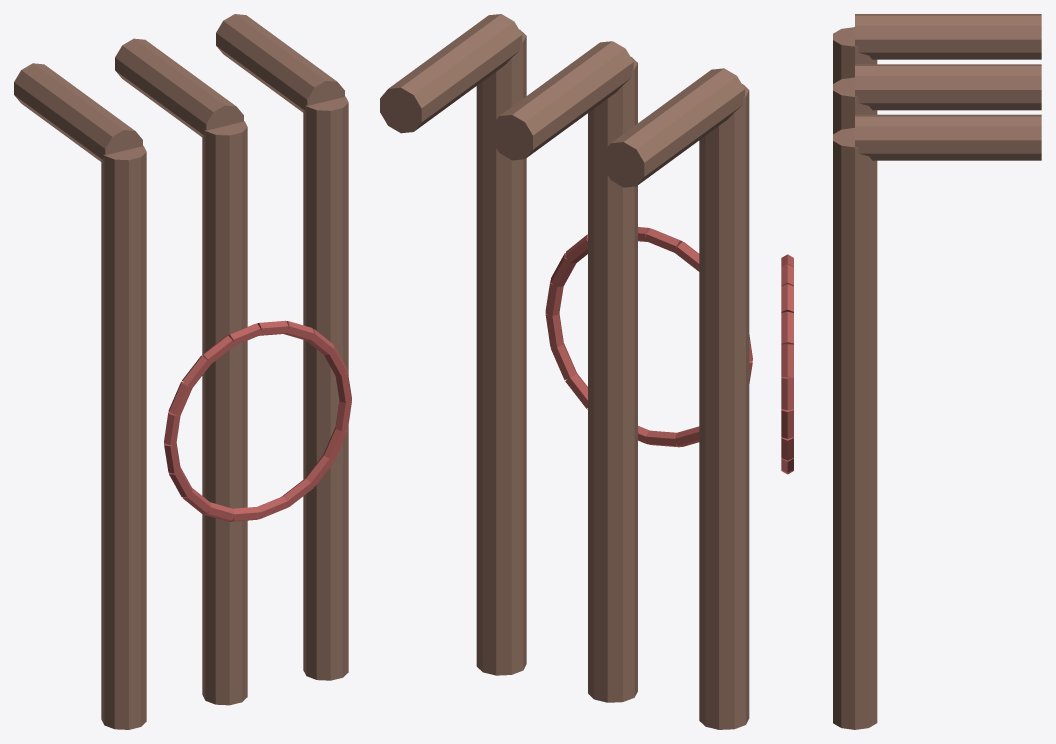
The model's file is BSM-003.glb.
3 renders of one model, left to right at view 1: azimuth 30°, elevation 25°; view 2: azimuth 150°, elevation 25°; view 3: azimuth 270°, elevation 25°, orthographic. The views are drawn at different scales.
Parts seen in each view (by area): view 1: 000_Pipe_section_0, 002_Pipe_section_1, 004_Pipe_section_2, 005_Elbow_2, 001_Elbow_0, 003_Elbow_1; view 2: 000_Pipe_section_0, 004_Pipe_section_2, 002_Pipe_section_1, 003_Elbow_1, 005_Elbow_2, 001_Elbow_0; view 3: 004_Pipe_section_2, 005_Elbow_2, 003_Elbow_1, 001_Elbow_0, 000_Pipe_section_0, 002_Pipe_section_1.
Boxes of the visible parts, left/top/right/bottom form: 000_Pipe_section_0: left=101, top=145, right=146, bottom=729; 002_Pipe_section_1: left=202, top=121, right=247, bottom=705; 004_Pipe_section_2: left=303, top=96, right=348, bottom=680; 005_Elbow_2: left=216, top=14, right=344, bottom=112; 001_Elbow_0: left=14, top=63, right=142, bottom=161; 003_Elbow_1: left=115, top=38, right=243, bottom=136; 000_Pipe_section_0: left=699, top=84, right=749, bottom=729; 004_Pipe_section_2: left=476, top=29, right=526, bottom=675; 002_Pipe_section_1: left=588, top=57, right=637, bottom=702; 003_Elbow_1: left=491, top=41, right=633, bottom=160; 005_Elbow_2: left=380, top=14, right=522, bottom=133; 001_Elbow_0: left=603, top=68, right=744, bottom=187; 004_Pipe_section_2: left=833, top=128, right=877, bottom=729; 005_Elbow_2: left=855, top=114, right=1041, bottom=160; 003_Elbow_1: left=855, top=64, right=1041, bottom=110; 001_Elbow_0: left=855, top=14, right=1041, bottom=59; 000_Pipe_section_0: left=833, top=27, right=877, bottom=83; 002_Pipe_section_1: left=833, top=77, right=877, bottom=134.
Size of the model in its own units: 0.55 by 1.28 by 0.5021.
